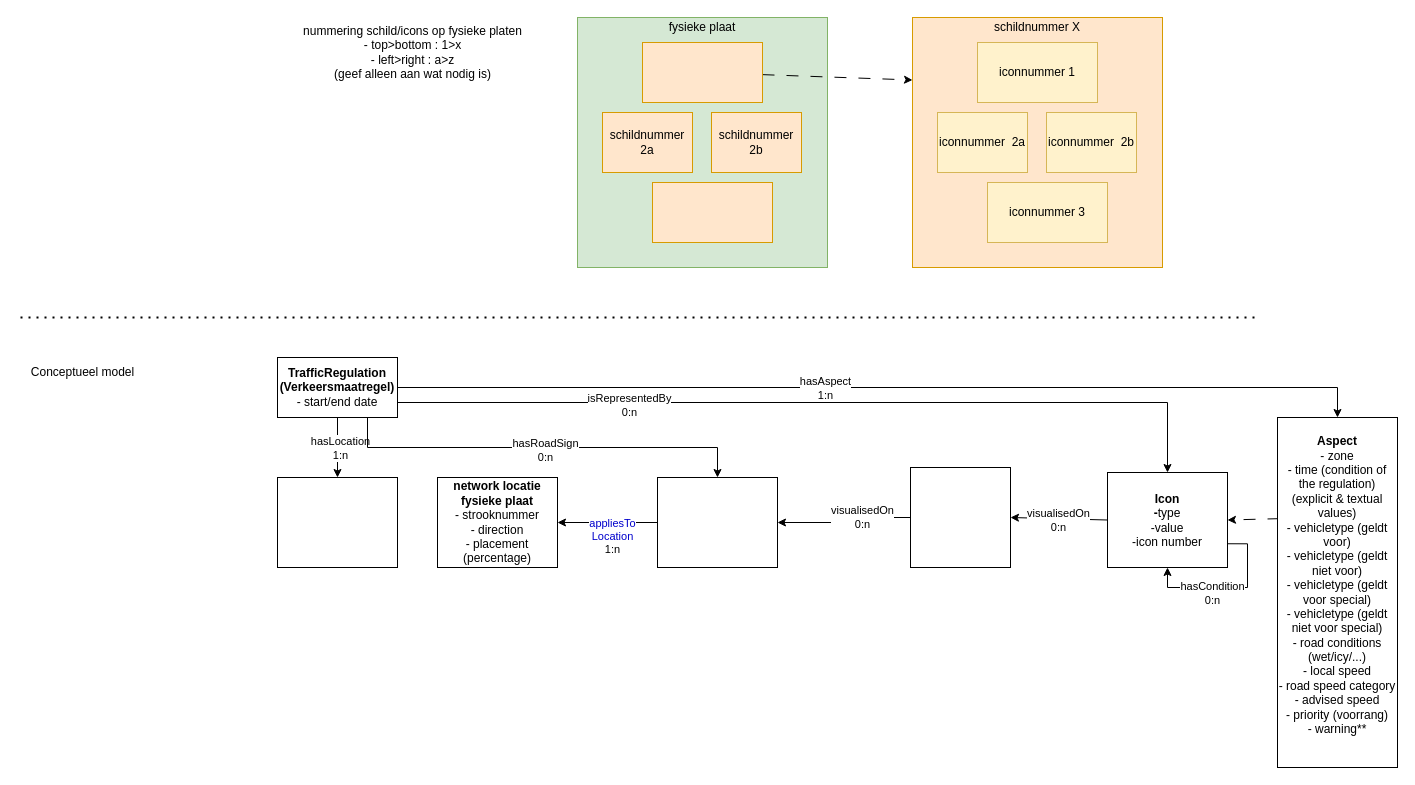
Some shapes in this 1415 by 785 pixel diagram are drawn without their labels. Here are the shapes that lost their labels. From the top down, the centre of each, then its label:
(x=702, y=72): schildnummer 1
(x=712, y=212): schildnummer 3
(x=337, y=522): network locatie verkeersmaatregel - strooknummer - direction - werkingslengte
(x=717, y=522): RoadSign (Fysieke plaat) - information** - coordinates
(x=960, y=517): Shield -shieldnumber - colour
